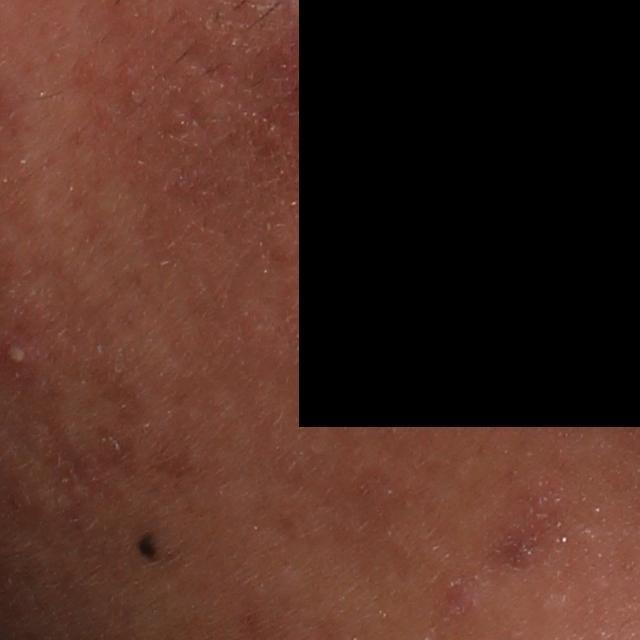nevus: (133, 530, 160, 560)
